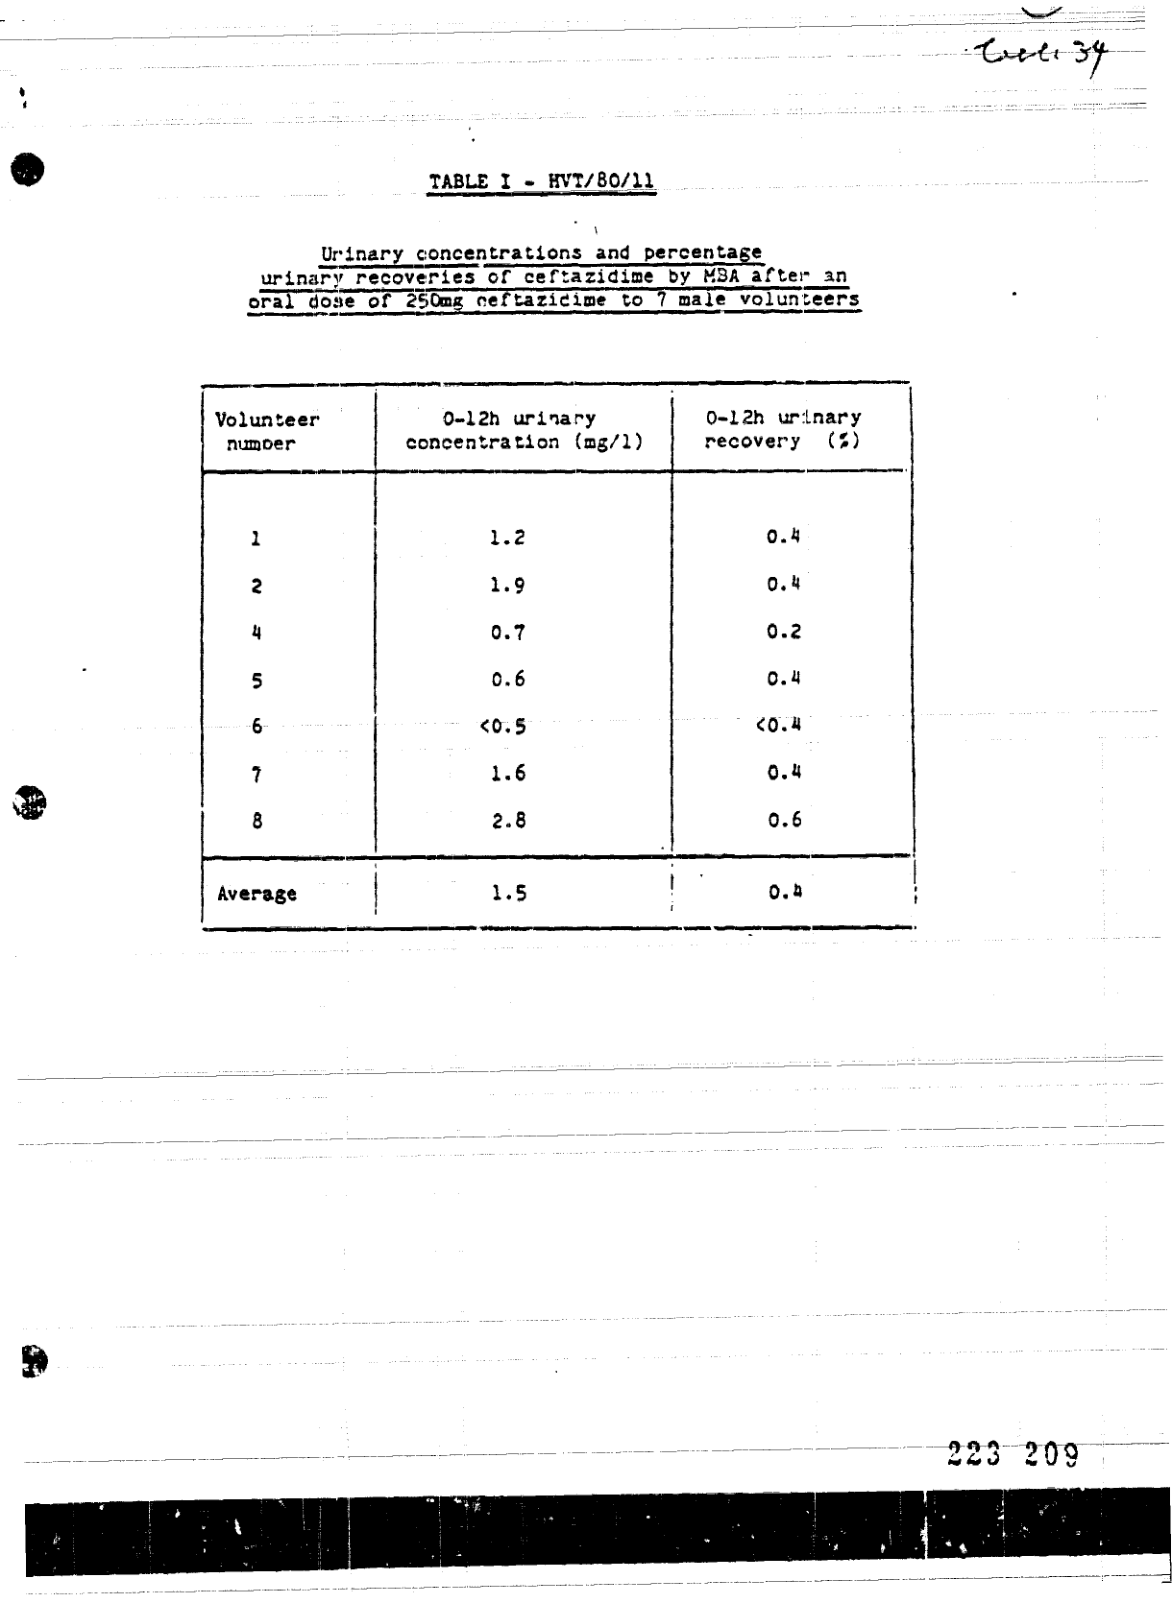partial_lined: (198, 375, 924, 933)
